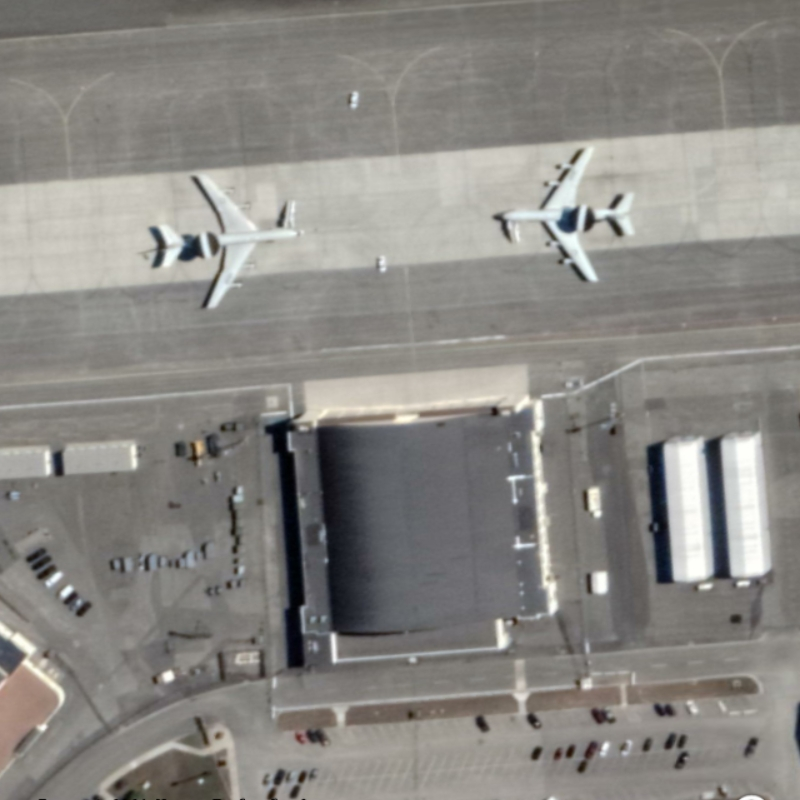A7: (138, 155, 311, 320), (488, 130, 637, 294)
